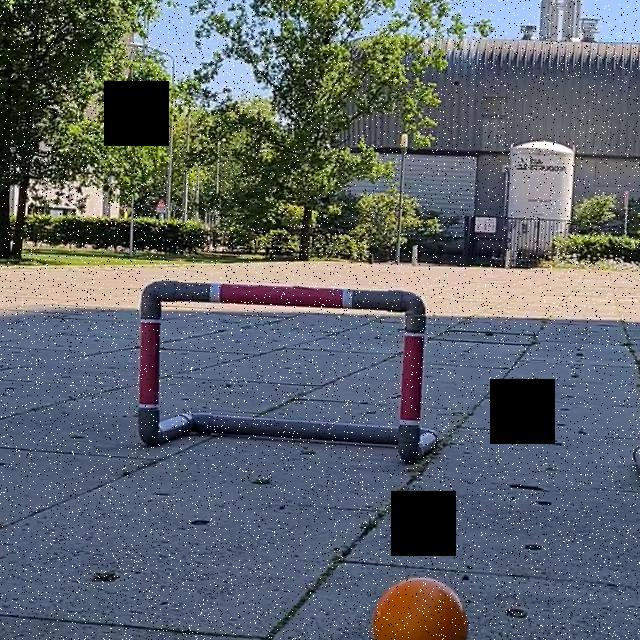ball: (369, 574, 471, 640)
